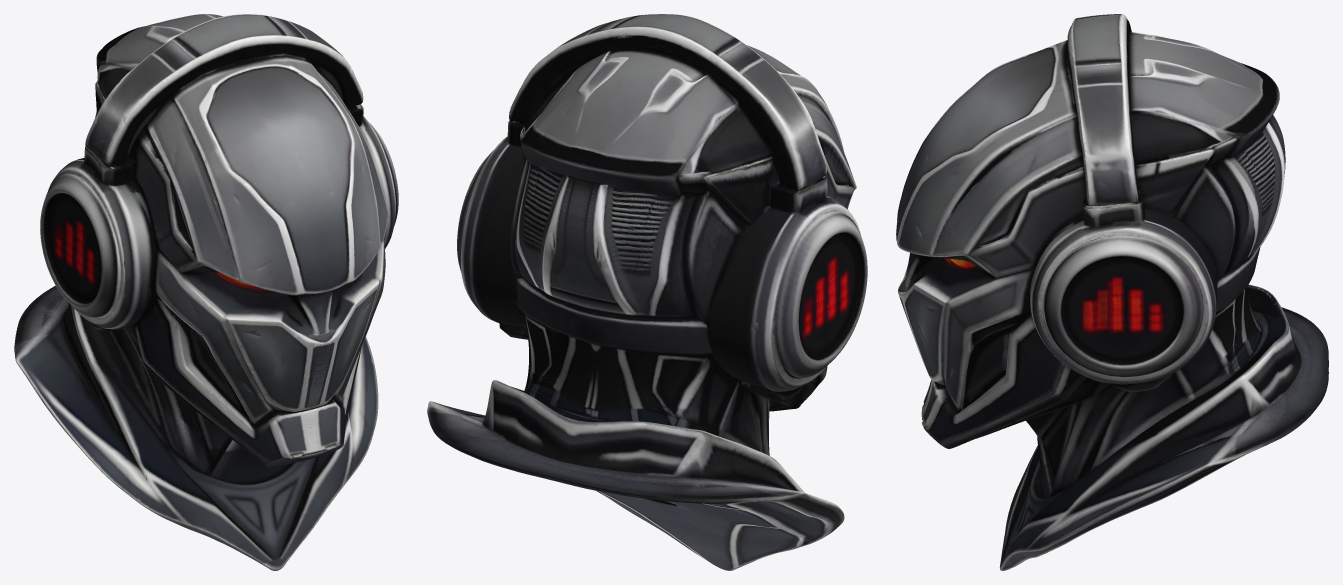
Rendered from roadie-3d-compressed.glb.
The picture shows the model from 3 angles, left to right: view 1: azimuth 30°, elevation 25°; view 2: azimuth 150°, elevation 25°; view 3: azimuth 270°, elevation 25°; orthographic projection. The views are drawn at different scales.
Bounding box in the file's own units: 1.27 × 1.9 × 1.37.
Materials: 1 (1 with a texture image).
